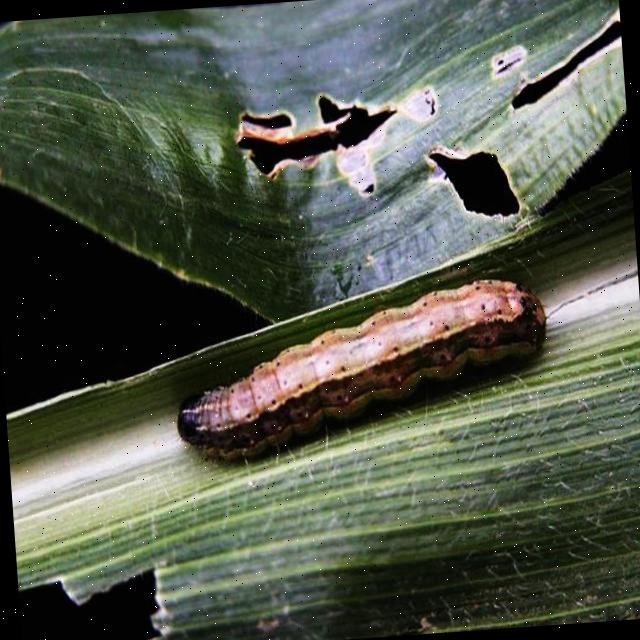worm: (169, 273, 557, 465)
